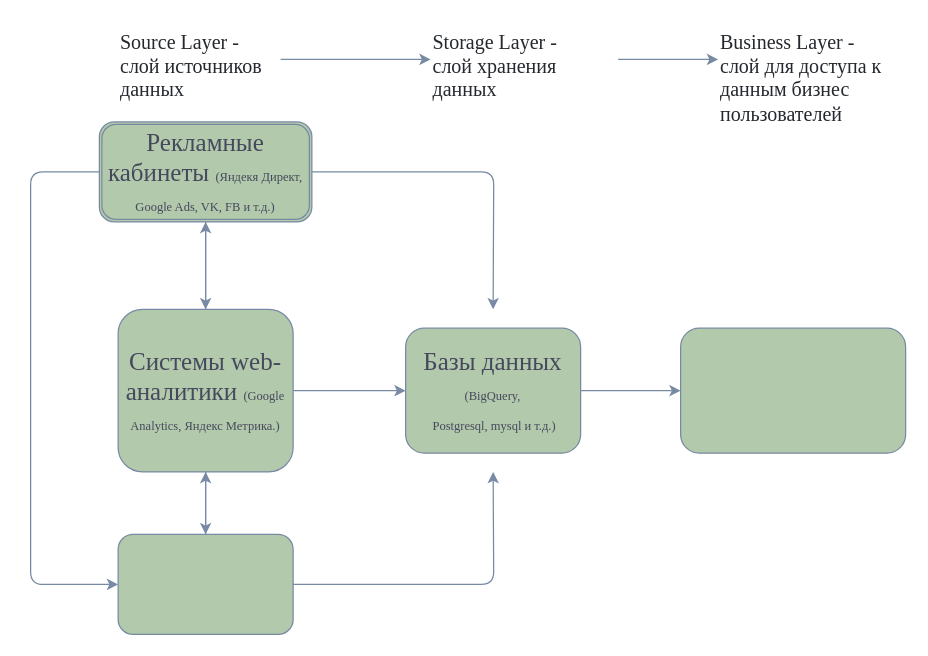
The diagram is 928 pixels wide and 656 high, and some of its shapes have lost their labels. The shapes that lost their labels are listed below. From the top down, each one's centre as x and y in pixels, then its label:
At pixel 792 390: "BI - системы (Power BI, DataStudio, Tableau)".
At pixel 205 583: "CRM, 1C".
